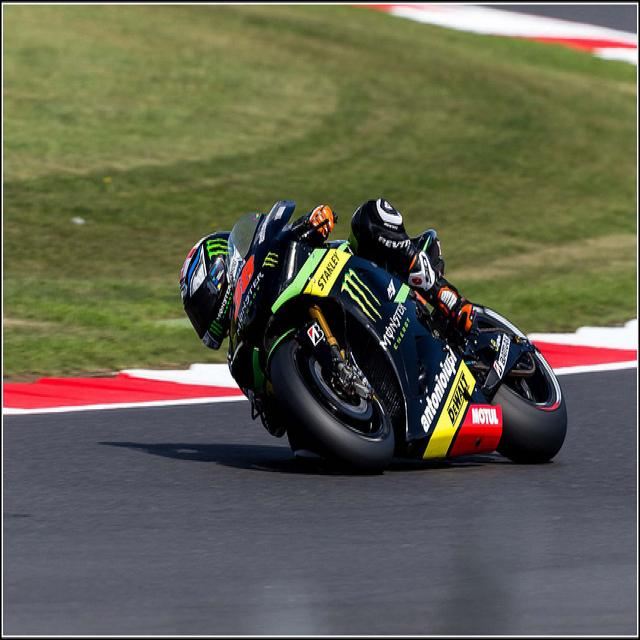motor: (226, 200, 568, 476)
